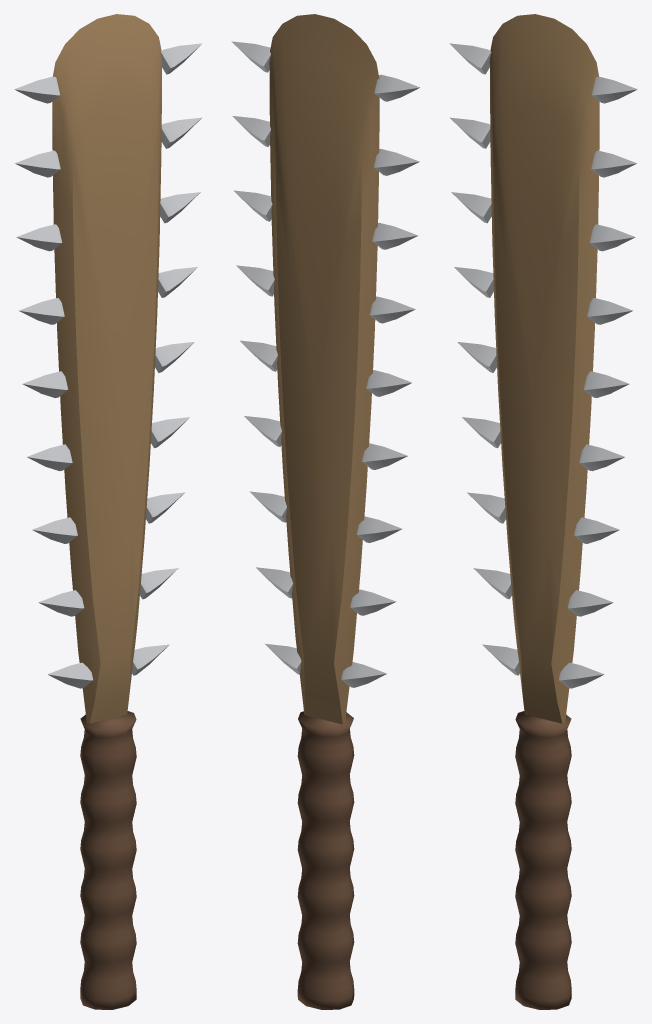
Rendered from steel-terbutje.glb.
The picture shows the model from 3 angles, left to right: view 1: azimuth 30°, elevation 25°; view 2: azimuth 150°, elevation 25°; view 3: azimuth 330°, elevation 25°; orthographic projection.
Visible parts, largest first — view 1: steel-terbutje; view 2: steel-terbutje; view 3: steel-terbutje.
Part boxes in pixels (bbox=[...]): steel-terbutje: bbox=[14, 14, 202, 1009]; steel-terbutje: bbox=[231, 14, 419, 1009]; steel-terbutje: bbox=[449, 14, 637, 1009].
Size of the model in its own units: 0.24 by 1.19 by 0.0533.
